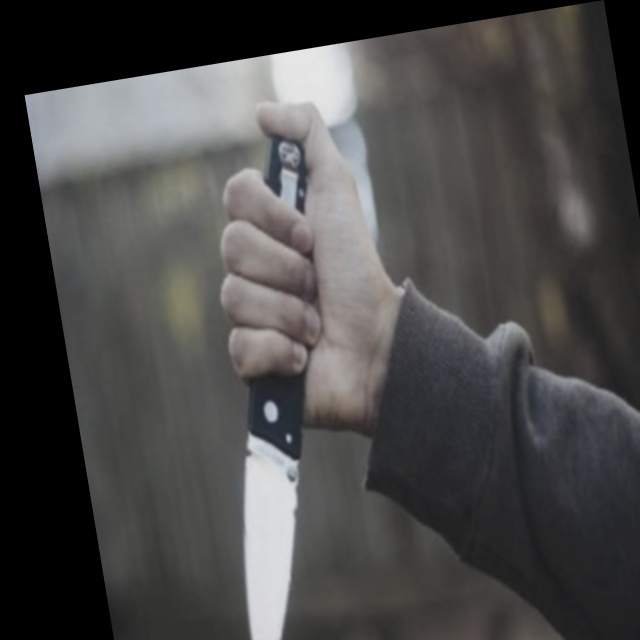Sharp-Object: (170, 134, 386, 640)
